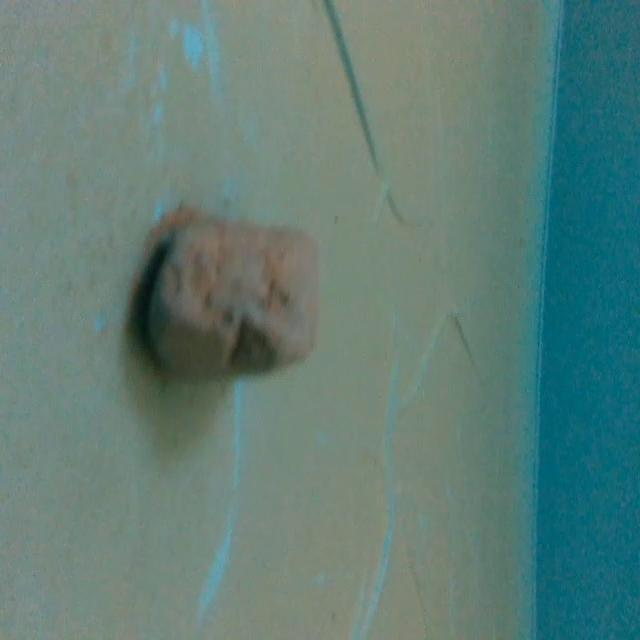rock: (139, 201, 322, 388)
